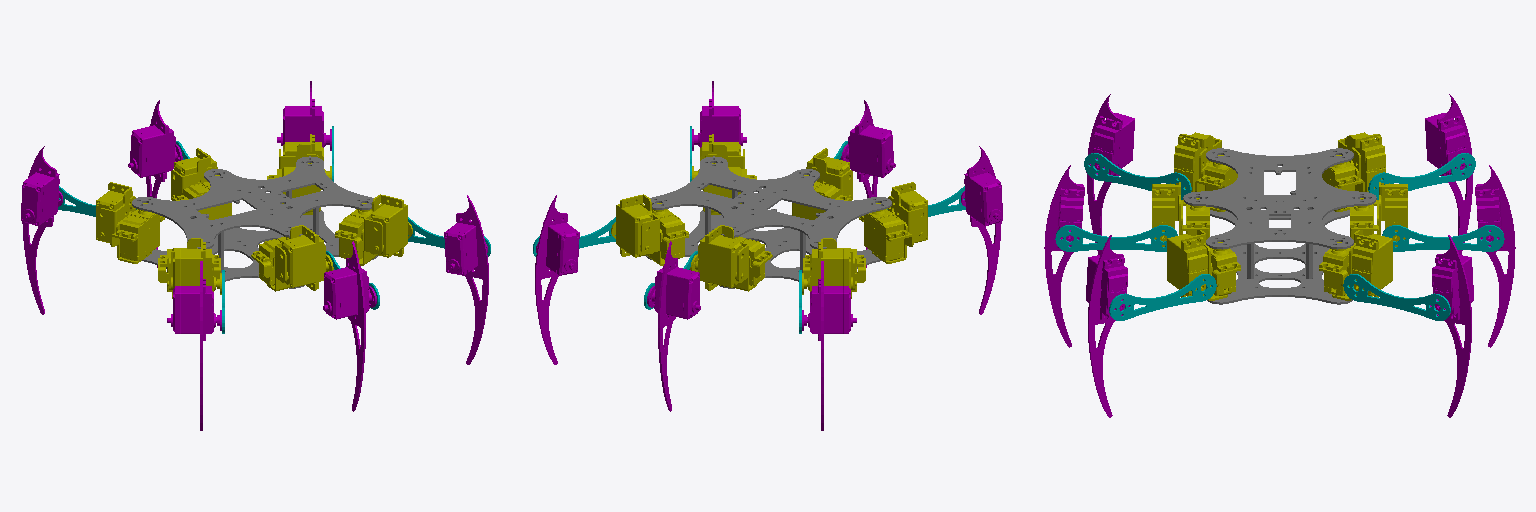
--- Facts derived from the render (not from the file) ---
The picture shows the robot from 3 angles, left to right: view 1: azimuth 30°, elevation 25°; view 2: azimuth 150°, elevation 25°; view 3: azimuth 270°, elevation 25°; orthographic projection.
Model crab with 31 links and 30 joints (18 revolute, 12 fixed), rooted at thorax, posed every joint at zero.
Visible links, largest first — view 1: thorax, coxa_r1, coxa_r2, coxa_l3, tibia_r1, tibia_r2, tibia_l3, tibia_l2, tibia_r3, coxa_r3, coxa_l2, tibia_l1 (+2 smaller); view 2: thorax, coxa_l1, coxa_l2, coxa_r3, tibia_l1, tibia_l2, tibia_r3, tibia_r2, tibia_l3, coxa_l3, coxa_r2, tibia_r1 (+2 smaller); view 3: thorax, tibia_r1, tibia_l1, coxa_r1, coxa_l1, tibia_r2, tibia_l2, tibia_r3, tibia_l3, coxa_r3, coxa_l3, coxa_r2 (+7 smaller).
Link boxes in pixels (x1,y1,x2,y2): thorax: (132, 156, 378, 288); coxa_r1: (335, 194, 412, 265); coxa_r2: (251, 225, 333, 291); coxa_l3: (96, 182, 164, 263); tibia_r1: (444, 195, 488, 364); tibia_r2: (323, 241, 376, 411); tibia_l3: (21, 146, 62, 314); tibia_l2: (128, 100, 182, 267); tibia_r3: (167, 261, 221, 430); coxa_r3: (158, 238, 221, 298); coxa_l2: (171, 148, 231, 219); tibia_l1: (277, 81, 331, 150); thorax: (645, 156, 891, 288); coxa_l1: (611, 194, 688, 265); coxa_l2: (690, 225, 772, 291); coxa_r3: (859, 182, 927, 263); tibia_l1: (535, 195, 579, 364); tibia_l2: (647, 241, 700, 411); tibia_r3: (961, 146, 1002, 314); tibia_r2: (841, 100, 895, 267); tibia_l3: (802, 261, 856, 430); coxa_l3: (802, 238, 865, 298); coxa_r2: (792, 148, 852, 219); tibia_r1: (692, 81, 746, 150); thorax: (1183, 148, 1376, 304); tibia_r1: (1086, 235, 1129, 417); tibia_l1: (1430, 235, 1473, 417); coxa_r1: (1167, 230, 1240, 300); coxa_l1: (1319, 230, 1392, 300); tibia_r2: (1044, 165, 1084, 347); tibia_l2: (1475, 165, 1515, 347); tibia_r3: (1086, 94, 1134, 254); tibia_l3: (1425, 94, 1473, 254); coxa_r3: (1170, 132, 1237, 211); coxa_l3: (1322, 132, 1389, 211); coxa_r2: (1152, 182, 1209, 246).
Bounding box of the posed robot: 0.3377 × 0.4021 × 0.172 m (x, y, z).
Meshes: 7 distinct files referenced, 19 mesh visuals loaded (7 binary STL).

The robot description file, URDF, robot "crab":
<?xml version="1.0" ?>
<!-- =================================================================================== -->
<!-- |    This document was autogenerated by xacro from crab_model.xacro               | -->
<!-- |    EDITING THIS FILE BY HAND IS NOT RECOMMENDED                                 | -->
<!-- =================================================================================== -->
<robot name="crab" xmlns:xacro="http://ros.org/wiki/xacro">
  <!-- Build the body frame -->
  <!--link name="base_link"/>
  <joint name="base_joint" type="fixed">
    <parent link="base_link"/>
    <child link="thorax"/>
    <origin rpy="0 0 0" xyz="0 0 0"/>
  </joint-->
  <!-- Note the density of the aluminium is about 2,710kg/m^3, and the densityf of the alloys of aluminium does not vary widely from this figure ranging between 2,640kg/m^3 and 2,810kg/m^3 (from www.thyssenkrupp-materials.co.uk/density-of-aluminium.html) -->
  <!-- One servo has a weight of approximately 0.055kg -->
  <link name="thorax">
    <inertial> <!-- these inertia are calculated based on the visual meshes using Meshlab, and using a density of 1kg/m^3 (http://gazebosim.org/tutorials?tut=inertia) -->
      <!--mass value="1"/--> <!-- volume = 0.061867e-3 -->
      <mass value="0.16765957"/> <!-- volume = 0.061867e-3m^3, density = 2,710kg/m^3 -->
      <origin xyz="0.000137 0.000006 0.002405"/>
      <!--inertia ixx="0.011935e-5" ixy="0.0" ixz="-0.000021e-5" iyy="0.022562e-5" iyz="-0.000001e-5" izz="0.026533e-5"/-->
      <!--inertia ixx="0.00192913831" ixy="0.0" ixz="-0.00000339437" iyy="0.00364685535" iyz="-1.6163706e-7" izz="0.00428871611"/--> <!-- divided by the volume, just need to be multiplied by the mass -->
      <inertia ixx="0.00032343849" ixy="0.0" ixz="-5.69098615e-7" iyy="0.00061143019" iyz="-2.71e-8" izz="0.00071904429"/> <!-- divided by the volume and multiplied by the mass -->
    </inertial>
    <visual>
      <origin rpy="0 0 0" xyz="0 0 0"/>
      <geometry>
        <mesh filename="meshes/thorax.STL"/>
      </geometry>
      <material name="grey">
        <color rgba="0.5 0.5 0.5 1"/>
      </material>
    </visual>
    <collision>
      <origin rpy="0 0 0" xyz="0 0 0"/>
      <geometry name="thorax_collision">
        <mesh filename="meshes/thorax.STL" scale="1. 1. 1."/>
      </geometry>
    </collision>
  </link>
  <!-- Pi parameter -->
  <!-- Joint properties -->
  <!-- Leg macros -->
  <!-- Build robot model -->
  <joint name="leg_center_joint_r1" type="fixed">
    <origin rpy="0 0 0" xyz="0.087598 -0.050575 0"/>
    <parent link="thorax"/>
    <child link="leg_center_r1"/>
  </joint>
  <link name="leg_center_r1">
    <inertial>
      <origin rpy="0 0 0" xyz="0 0 0"/>
      <mass value="0"/>
      <inertia ixx="0.0" ixy="0.0" ixz="0.0" iyy="0.0" iyz="0.0" izz="0.0"/>
    </inertial>
  </link> <!-- in pybullet, the inertia need to be specified even for dummy links, otherwise it will put an identity inertia and a mass of 1 by default -->
  <joint name="coxa_joint_r1" type="revolute">
    <origin rpy="0 0 -1.0471975512" xyz="0 0 0"/>
    <parent link="leg_center_r1"/>
    <child link="coxa_r1"/>
    <axis xyz="0 0 -1"/>
    <limit effort="10000" lower="-1.5" upper="1.5" velocity="100"/>
  </joint>
  <link name="coxa_r1">
    <inertial> <!-- these inertia are calculated based on the visual meshes using Meshlab, and using a density of 1kg/m^3 (http://gazebosim.org/tutorials?tut=inertia) -->
      <mass value="0.120"/> <!-- volume = 0.033302e-3, mass of 2 servos = 0,110kg + mass of a little bit of alloy = 0.010kg (approx) -->
      <origin xyz="0.014769 -0.007977 0.004815"/>
      <!--inertia ixx="0.001380e-5" ixy="-0.000093e-5" ixz="-0.000177e-5" iyy="0.001442e-5" iyz="-0.000030e-5" izz="0.001371e-5"/-->
      <!--inertia ixx="0.00041438952" ixy="-0.00002792625" ixz="-0.00005314996" iyy="0.00043300702" iyz="-0.00000900846" izz="0.00041168698"/--> <!-- divided by the volume, just need to be multiplied by the mass -->
      <inertia ixx="0.00004972674" ixy="-0.00000335115" ixz="-0.00000637799" iyy="0.00005196084" iyz="-0.00000108101" izz="0.00004940243"/> <!-- divided by the volume and multiplied by the mass -->
    </inertial>
    <visual>
      <origin rpy="0 0 0" xyz="0 0 0"/>
      <geometry>
        <mesh filename="meshes/coxa_r.STL"/>
      </geometry>
      <material name="">
        <color rgba="0.7 0.7 0 1"/>
      </material>
    </visual>
    <collision>
      <origin rpy="0 0 0" xyz="0 0 0"/>
      <geometry name="coxa_r1_collision">
        <mesh filename="meshes/coxa_r.STL" scale="1. 1. 1."/>
      </geometry>
    </collision>
  </link>
  <joint name="femur_joint_r1" type="revolute">
    <origin rpy="-1.57079632679 0 0" xyz="0.0294 0 0"/>
    <parent link="coxa_r1"/>
    <child link="femur_r1"/>
    <axis xyz="0 0 -1"/>
    <limit effort="10000" lower="-1.5" upper="1.5" velocity="100"/>
  </joint>
  <link name="femur_r1">
    <inertial> <!-- these inertia are calculated based on the visual meshes using Meshlab, and using a density of 1kg/m^3 (http://gazebosim.org/tutorials?tut=inertia) -->
      <mass value="0.00834951"/> <!-- volume = 0.003081e-3, density = 2,710kg/m^3 -->
      <origin xyz="0.0400002 0.0017746 0.0213350"/>
      <!--inertia ixx="0.000012e-5" ixy="0.0e-5" ixz="0.0e-5" iyy="0.000319e-5" iyz="0.0e-5" izz="0.000330e-5"/-->
      <!--inertia ixx="0.00003894839" ixy="0.0" ixz="0.0" iyy="0.00103537812" iyz="0.0" izz="0.00107108081"/--> <!-- divided by the volume, just need to be multiplied by the mass -->
      <inertia ixx="3.25199972e-7" ixy="0.0" ixz="0.0" iyy="0.00000864489" iyz="0.0" izz="0.00000894299"/> <!-- divided by the volume and multiplied by the mass -->
    </inertial>
    <visual>
      <origin rpy="0 0 0" xyz="0 0 0"/>
      <geometry>
        <mesh filename="meshes/femur_r.STL"/>
      </geometry>
      <material name="">
        <color rgba="0 0.7 0.7 1"/>
      </material>
    </visual>
    <collision>
      <origin rpy="0 0 0" xyz="0 0 0"/>
      <geometry name="femur_r1_collision">
        <mesh filename="meshes/femur_r.STL" scale="1. 1. 1."/>
      </geometry>
    </collision>
  </link>
  <joint name="tibia_joint_r1" type="revolute">
    <origin rpy="3.14159265359 0 1.57079632679" xyz="0.08 0 0"/>
    <parent link="femur_r1"/>
    <child link="tibia_r1"/>
    <axis xyz="0 0 1"/>
    <limit effort="10000" lower="-1.5" upper="1.5" velocity="100"/>
  </joint>
  <link name="tibia_r1">
    <inertial> <!-- these inertia are calculated based on the visual meshes using Meshlab, and using a density of 1kg/m^3 (http://gazebosim.org/tutorials?tut=inertia) -->
      <mass value="0.05564726"/> <!-- volume = 0.016106e-3, density = 2,710kg + 0.013kg for the servo (a little bit random) -->
      <origin xyz="-0.0025176 0.0017559 0.0028322"/>
      <!--inertia ixx="0.000317e-5" ixy="-0.000054e-5" ixz="0.000061e-5" iyy="0.001368e-5" iyz="0.000011e-5" izz="0.001244e-5"/-->
      <!--inertia ixx="0.00019682106" ixy="-0.00003352787" ixz="0.00003787408" iyy="0.0008493729" iyz="0.00000682975" izz="0.00077238296"/--> <!-- divided by the volume, just need to be multiplied by the mass -->
      <inertia ixx="0.00001095255" ixy="-0.00000186573" ixz="0.00000210758" iyy="0.00004726527" iyz="3.80056874e-7" izz="0.00004298099"/> <!-- divided by the volume, just need to be multiplied by the mass -->
    </inertial>
    <visual>
      <origin rpy="0 0 0.06" xyz="0 0 0"/>
      <geometry>
        <mesh filename="meshes/tibia_r.STL"/>
      </geometry>
      <material name="">
        <color rgba="0.7 0 0.7 1"/>
      </material>
    </visual>
    <collision>
      <origin rpy="0 0 0.06" xyz="0 0 0"/>
      <geometry name="tibia_r1_collision">
        <mesh filename="meshes/tibia_r.STL" scale="1. 1. 1."/>
      </geometry>
    </collision>
  </link>
  <joint name="tibia_foot_joint_r1" type="fixed">
    <origin rpy="0 0 0" xyz="0.117 0 0"/>
    <parent link="tibia_r1"/>
    <child link="tibia_foot_r1"/>
  </joint>
  <link name="tibia_foot_r1">
    <inertial>
      <origin rpy="0 0 0" xyz="0 0 0"/>
      <mass value="0"/>
      <inertia ixx="0.0" ixy="0.0" ixz="0.0" iyy="0.0" iyz="0.0" izz="0.0"/>
    </inertial>
  </link> <!-- in pybullet, the inertia need to be specified even for dummy links, otherwise it will put an identity inertia and a mass of 1 by default -->
  <joint name="leg_center_joint_r2" type="fixed">
    <origin rpy="0 0 0" xyz="0 -0.06985 0"/>
    <parent link="thorax"/>
    <child link="leg_center_r2"/>
  </joint>
  <link name="leg_center_r2">
    <inertial>
      <origin rpy="0 0 0" xyz="0 0 0"/>
      <mass value="0"/>
      <inertia ixx="0.0" ixy="0.0" ixz="0.0" iyy="0.0" iyz="0.0" izz="0.0"/>
    </inertial>
  </link> <!-- in pybullet, the inertia need to be specified even for dummy links, otherwise it will put an identity inertia and a mass of 1 by default -->
  <joint name="coxa_joint_r2" type="revolute">
    <origin rpy="0 0 -1.57079632679" xyz="0 0 0"/>
    <parent link="leg_center_r2"/>
    <child link="coxa_r2"/>
    <axis xyz="0 0 -1"/>
    <limit effort="10000" lower="-1.5" upper="1.5" velocity="100"/>
  </joint>
  <link name="coxa_r2">
    <inertial> <!-- these inertia are calculated based on the visual meshes using Meshlab, and using a density of 2,710kg/m^3 (http://gazebosim.org/tutorials?tut=inertia) -->
      <mass value="0.120"/> <!-- volume = 0.033302e-3, mass of 2 servos = 0,110kg + mass of a little bit of alloy = 0.010kg (approx) -->
      <origin xyz="0.014769 -0.007977 0.004815"/>
      <!--inertia ixx="0.001380e-5" ixy="-0.000093e-5" ixz="-0.000177e-5" iyy="0.001442e-5" iyz="-0.000030e-5" izz="0.001371e-5"/-->
      <!--inertia ixx="0.00041438952" ixy="-0.00002792625" ixz="-0.00005314996" iyy="0.00043300702" iyz="-0.00000900846" izz="0.00041168698"/--> <!-- divided by the volume, just need to be multiplied by the mass -->
      <inertia ixx="0.00004972674" ixy="-0.00000335115" ixz="-0.00000637799" iyy="0.00005196084" iyz="-0.00000108101" izz="0.00004940243"/> <!-- divided by the volume and multiplied by the mass -->
    </inertial>
    <visual>
      <origin rpy="0 0 0" xyz="0 0 0"/>
      <geometry>
        <mesh filename="meshes/coxa_r.STL"/>
      </geometry>
      <material name="">
        <color rgba="0.7 0.7 0 1"/>
      </material>
    </visual>
    <collision>
      <origin rpy="0 0 0" xyz="0 0 0"/>
      <geometry name="coxa_r2_collision">
        <mesh filename="meshes/coxa_r.STL" scale="1. 1. 1."/>
      </geometry>
    </collision>
  </link>
  <joint name="femur_joint_r2" type="revolute">
    <origin rpy="-1.57079632679 0 0" xyz="0.0294 0 0"/>
    <parent link="coxa_r2"/>
    <child link="femur_r2"/>
    <axis xyz="0 0 -1"/>
    <limit effort="10000" lower="-1.5" upper="1.5" velocity="100"/>
  </joint>
  <link name="femur_r2">
    <inertial> <!-- these inertia are calculated based on the visual meshes using Meshlab, and using a density of 1kg/m^3 (http://gazebosim.org/tutorials?tut=inertia) -->
      <mass value="0.00834951"/> <!-- volume = 0.003081e-3, density = 2,710kg/m^3 -->
      <origin xyz="0.0400002 0.0017746 0.0213350"/>
      <!--inertia ixx="0.000012e-5" ixy="0.0e-5" ixz="0.0e-5" iyy="0.000319e-5" iyz="0.0e-5" izz="0.000330e-5"/-->
      <!--inertia ixx="0.00003894839" ixy="0.0" ixz="0.0" iyy="0.00103537812" iyz="0.0" izz="0.00107108081"/--> <!-- divided by the volume, just need to be multiplied by the mass -->
      <inertia ixx="3.25199972e-7" ixy="0.0" ixz="0.0" iyy="0.00000864489" iyz="0.0" izz="0.00000894299"/> <!-- divided by the volume and multiplied by the mass -->
    </inertial>
    <visual>
      <origin rpy="0 0 0" xyz="0 0 0"/>
      <geometry>
        <mesh filename="meshes/femur_r.STL"/>
      </geometry>
      <material name="">
        <color rgba="0 0.7 0.7 1"/>
      </material>
    </visual>
    <collision>
      <origin rpy="0 0 0" xyz="0 0 0"/>
      <geometry name="femur_r2_collision">
        <mesh filename="meshes/femur_r.STL" scale="1. 1. 1."/>
      </geometry>
    </collision>
  </link>
  <joint name="tibia_joint_r2" type="revolute">
    <origin rpy="3.14159265359 0 1.57079632679" xyz="0.08 0 0"/>
    <parent link="femur_r2"/>
    <child link="tibia_r2"/>
    <axis xyz="0 0 1"/>
    <limit effort="10000" lower="-1.5" upper="1.5" velocity="100"/>
  </joint>
  <link name="tibia_r2">
    <inertial> <!-- these inertia are calculated based on the visual meshes using Meshlab, and using a density of 1kg/m^3 (http://gazebosim.org/tutorials?tut=inertia) -->
      <mass value="0.05564726"/> <!-- volume = 0.016106e-3, density = 2,710kg + 0.013kg for the servo (a little bit random) -->
      <origin xyz="-0.0025176 0.0017559 0.0028322"/>
      <!--inertia ixx="0.000317e-5" ixy="-0.000054e-5" ixz="0.000061e-5" iyy="0.001368e-5" iyz="0.000011e-5" izz="0.001244e-5"/-->
      <!--inertia ixx="0.00019682106" ixy="-0.00003352787" ixz="0.00003787408" iyy="0.0008493729" iyz="0.00000682975" izz="0.00077238296"/--> <!-- divided by the volume, just need to be multiplied by the mass -->
      <inertia ixx="0.00001095255" ixy="-0.00000186573" ixz="0.00000210758" iyy="0.00004726527" iyz="3.80056874e-7" izz="0.00004298099"/> <!-- divided by the volume, just need to be multiplied by the mass -->
    </inertial>
    <visual>
      <origin rpy="0 0 0.06" xyz="0 0 0"/>
      <geometry>
        <mesh filename="meshes/tibia_r.STL"/>
      </geometry>
      <material name="">
        <color rgba="0.7 0 0.7 1"/>
      </material>
    </visual>
    <collision>
      <origin rpy="0 0 0.06" xyz="0 0 0"/>
      <geometry name="tibia_r2_collision">
        <mesh filename="meshes/tibia_r.STL" scale="1. 1. 1."/>
      </geometry>
    </collision>
  </link>
  <joint name="tibia_foot_joint_r2" type="fixed">
    <origin rpy="0 0 0" xyz="0.117 0 0"/>
    <parent link="tibia_r2"/>
    <child link="tibia_foot_r2"/>
  </joint>
  <link name="tibia_foot_r2">
    <inertial>
      <origin rpy="0 0 0" xyz="0 0 0"/>
      <mass value="0"/>
      <inertia ixx="0.0" ixy="0.0" ixz="0.0" iyy="0.0" iyz="0.0" izz="0.0"/>
    </inertial>
  </link> <!-- in pybullet, the inertia need to be specified even for dummy links, otherwise it will put an identity inertia and a mass of 1 by default -->
  <joint name="leg_center_joint_r3" type="fixed">
    <origin rpy="0 0 0" xyz="-0.087598 -0.050575 0"/>
    <parent link="thorax"/>
    <child link="leg_center_r3"/>
  </joint>
  <link name="leg_center_r3">
    <inertial>
      <origin rpy="0 0 0" xyz="0 0 0"/>
      <mass value="0"/>
      <inertia ixx="0.0" ixy="0.0" ixz="0.0" iyy="0.0" iyz="0.0" izz="0.0"/>
    </inertial>
  </link> <!-- in pybullet, the inertia need to be specified even for dummy links, otherwise it will put an identity inertia and a mass of 1 by default -->
  <joint name="coxa_joint_r3" type="revolute">
    <origin rpy="0 0 -2.09439510239" xyz="0 0 0"/>
    <parent link="leg_center_r3"/>
    <child link="coxa_r3"/>
    <axis xyz="0 0 -1"/>
    <limit effort="10000" lower="-1.5" upper="1.5" velocity="100"/>
  </joint>
  <link name="coxa_r3">
    <inertial> <!-- these inertia are calculated based on the visual meshes using Meshlab, and using a density of 2,710kg/m^3 (http://gazebosim.org/tutorials?tut=inertia) -->
      <mass value="0.120"/> <!-- volume = 0.033302e-3, mass of 2 servos = 0,110kg + mass of a little bit of alloy = 0.010kg (approx) -->
      <origin xyz="0.014769 -0.007977 0.004815"/>
      <!--inertia ixx="0.001380e-5" ixy="-0.000093e-5" ixz="-0.000177e-5" iyy="0.001442e-5" iyz="-0.000030e-5" izz="0.001371e-5"/-->
      <!--inertia ixx="0.00041438952" ixy="-0.00002792625" ixz="-0.00005314996" iyy="0.00043300702" iyz="-0.00000900846" izz="0.00041168698"/--> <!-- divided by the volume, just need to be multiplied by the mass -->
      <inertia ixx="0.00004972674" ixy="-0.00000335115" ixz="-0.00000637799" iyy="0.00005196084" iyz="-0.00000108101" izz="0.00004940243"/> <!-- divided by the volume and multiplied by the mass -->
    </inertial>
    <visual>
      <origin rpy="0 0 0" xyz="0 0 0"/>
      <geometry>
        <mesh filename="meshes/coxa_r.STL"/>
      </geometry>
      <material name="">
        <color rgba="0.7 0.7 0 1"/>
      </material>
    </visual>
    <collision>
      <origin rpy="0 0 0" xyz="0 0 0"/>
      <geometry name="coxa_r3_collision">
        <mesh filename="meshes/coxa_r.STL" scale="1. 1. 1."/>
      </geometry>
    </collision>
  </link>
  <joint name="femur_joint_r3" type="revolute">
    <origin rpy="-1.57079632679 0 0" xyz="0.0294 0 0"/>
    <parent link="coxa_r3"/>
    <child link="femur_r3"/>
    <axis xyz="0 0 -1"/>
    <limit effort="10000" lower="-1.5" upper="1.5" velocity="100"/>
  </joint>
  <link name="femur_r3">
    <inertial> <!-- these inertia are calculated based on the visual meshes using Meshlab, and using a density of 1kg/m^3 (http://gazebosim.org/tutorials?tut=inertia) -->
      <mass value="0.00834951"/> <!-- volume = 0.003081e-3, density = 2,710kg/m^3 -->
      <origin xyz="0.0400002 0.0017746 0.0213350"/>
      <!--inertia ixx="0.000012e-5" ixy="0.0e-5" ixz="0.0e-5" iyy="0.000319e-5" iyz="0.0e-5" izz="0.000330e-5"/-->
      <!--inertia ixx="0.00003894839" ixy="0.0" ixz="0.0" iyy="0.00103537812" iyz="0.0" izz="0.00107108081"/--> <!-- divided by the volume, just need to be multiplied by the mass -->
      <inertia ixx="3.25199972e-7" ixy="0.0" ixz="0.0" iyy="0.00000864489" iyz="0.0" izz="0.00000894299"/> <!-- divided by the volume and multiplied by the mass -->
    </inertial>
    <visual>
      <origin rpy="0 0 0" xyz="0 0 0"/>
      <geometry>
        <mesh filename="meshes/femur_r.STL"/>
      </geometry>
      <material name="">
        <color rgba="0 0.7 0.7 1"/>
      </material>
    </visual>
    <collision>
      <origin rpy="0 0 0" xyz="0 0 0"/>
      <geometry name="femur_r3_collision">
        <mesh filename="meshes/femur_r.STL" scale="1. 1. 1."/>
      </geometry>
    </collision>
  </link>
  <joint name="tibia_joint_r3" type="revolute">
    <origin rpy="3.14159265359 0 1.57079632679" xyz="0.08 0 0"/>
    <parent link="femur_r3"/>
    <child link="tibia_r3"/>
    <axis xyz="0 0 1"/>
    <limit effort="10000" lower="-1.5" upper="1.5" velocity="100"/>
  </joint>
  <link name="tibia_r3">
    <inertial> <!-- these inertia are calculated based on the visual meshes using Meshlab, and using a density of 1kg/m^3 (http://gazebosim.org/tutorials?tut=inertia) -->
      <mass value="0.05564726"/> <!-- volume = 0.016106e-3, density = 2,710kg + 0.013kg for the servo (a little bit random) -->
      <origin xyz="-0.0025176 0.0017559 0.0028322"/>
      <!--inertia ixx="0.000317e-5" ixy="-0.000054e-5" ixz="0.000061e-5" iyy="0.001368e-5" iyz="0.000011e-5" izz="0.001244e-5"/-->
      <!--inertia ixx="0.00019682106" ixy="-0.00003352787" ixz="0.00003787408" iyy="0.0008493729" iyz="0.00000682975" izz="0.00077238296"/--> <!-- divided by the volume, just need to be multiplied by the mass -->
      <inertia ixx="0.00001095255" ixy="-0.00000186573" ixz="0.00000210758" iyy="0.00004726527" iyz="3.80056874e-7" izz="0.00004298099"/> <!-- divided by the volume, just need to be multiplied by the mass -->
    </inertial>
    <visual>
      <origin rpy="0 0 0.06" xyz="0 0 0"/>
      <geometry>
        <mesh filename="meshes/tibia_r.STL"/>
      </geometry>
      <material name="">
        <color rgba="0.7 0 0.7 1"/>
      </material>
    </visual>
    <collision>
      <origin rpy="0 0 0.06" xyz="0 0 0"/>
      <geometry name="tibia_r3_collision">
        <mesh filename="meshes/tibia_r.STL" scale="1. 1. 1."/>
      </geometry>
    </collision>
  </link>
  <joint name="tibia_foot_joint_r3" type="fixed">
    <origin rpy="0 0 0" xyz="0.117 0 0"/>
    <parent link="tibia_r3"/>
    <child link="tibia_foot_r3"/>
  </joint>
  <link name="tibia_foot_r3">
    <inertial>
      <origin rpy="0 0 0" xyz="0 0 0"/>
      <mass value="0"/>
      <inertia ixx="0.0" ixy="0.0" ixz="0.0" iyy="0.0" iyz="0.0" izz="0.0"/>
    </inertial>
  </link> <!-- in pybullet, the inertia need to be specified even for dummy links, otherwise it will put an identity inertia and a mass of 1 by default -->
  <joint name="leg_center_joint_l1" type="fixed">
    <origin rpy="0 0 0" xyz="0.087598 0.050575 0"/>
    <parent link="thorax"/>
    <child link="leg_center_l1"/>
  </joint>
  <link name="leg_center_l1">
    <inertial>
      <origin rpy="0 0 0" xyz="0 0 0"/>
      <mass value="0"/>
      <inertia ixx="0.0" ixy="0.0" ixz="0.0" iyy="0.0" iyz="0.0" izz="0.0"/>
    </inertial>
  </link> <!-- in pybullet, the inertia need to be specified even for dummy links, otherwise it will put an identity inertia and a mass of 1 by default -->
  <joint name="coxa_joint_l1" type="revolute">
    <origin rpy="0 0 1.0471975512" xyz="0 0 0"/>
    <parent link="leg_center_l1"/>
    <child link="coxa_l1"/>
    <axis xyz="0 0 -1"/>
    <limit effort="10000" lower="-1.5" upper="1.5" velocity="100"/>
  </joint>
  <link name="coxa_l1">
    <inertial> <!-- these inertia are calculated based on the visual meshes using Meshlab, and using a density of 1kg/m^3 (http://gazebosim.org/tutorials?tut=inertia) -->
      <mass value="0.120"/> <!-- volume = 0.033302e-3, mass of 2 servos = 0,110kg + mass of a little bit of alloy = 0.010kg (approx) -->
      <origin xyz="0.014769 0.007977 0.004815"/>
      <!--inertia ixx="0.001380e-5" ixy="0.000093e-5" ixz="-0.000177e-5" iyy="0.001442e-5" iyz="0.000030e-5" izz="0.001371e-5"/-->
      <!--inertia ixx="0.00041438952" ixy="0.00002792625" ixz="-0.00005314996" iyy="0.00043300702" iyz="0.00000900846" izz="0.00041168698"/--> <!-- divided by the volume, just need to be multiplied by the mass -->
      <inertia ixx="0.00004972674" ixy="0.00000335115" ixz="-0.00000637799" iyy="0.00005196084" iyz="0.00000108101" izz="0.00004940243"/> <!-- divided by the volume and multiplied by the mass -->
    </inertial>
    <visual>
      <origin rpy="0 0 0" xyz="0 0 0"/>
      <geometry>
        <mesh filename="meshes/coxa_l.STL"/>
      </geometry>
      <material name="">
        <color rgba="0.7 0.7 0 1"/>
      </material>
    </visual>
    <collision>
      <origin rpy="0 0 0" xyz="0 0 0"/>
      <geometry name="coxa_l1_collision">
        <mesh filename="meshes/coxa_l.STL" scale="1. 1. 1."/>
      </geometry>
    </collision>
  </link>
  <joint name="femur_joint_l1" type="revolute">
    <origin rpy="-1.57079632679 0 0" xyz="0.0294 0 0"/>
    <parent link="coxa_l1"/>
    <child link="femur_l1"/>
    <axis xyz="0 0 -1"/>
    <limit effort="10000" lower="-1.5" upper="1.5" velocity="100"/>
  </joint>
  <link name="femur_l1">
    <inertial> <!-- these inertia are calculated based on the visual meshes using Meshlab, and using a density of 1kg/m^3 (http://gazebosim.org/tutorials?tut=inertia) -->
      <mass value="0.00834951"/> <!-- volume = 0.003081e-3, density = 2,710kg/m^3 -->
      <origin xyz="0.0400002 0.0017746 -0.0213350"/>
      <!--inertia ixx="0.000012e-5" ixy="0.0e-5" ixz="0.0e-5" iyy="0.000319e-5" iyz="0.0e-5" izz="0.000330e-5"/-->
      <!--inertia ixx="0.00003894839" ixy="0.0" ixz="0.0" iyy="0.00103537812" iyz="0.0" izz="0.00107108081"/--> <!-- divided by the volume, just need to be multiplied by the mass -->
      <inertia ixx="3.25199972e-7" ixy="0.0" ixz="0.0" iyy="0.00000864489" iyz="0.0" izz="0.00000894299"/> <!-- divided by the volume and multiplied by the mass -->
    </inertial>
    <visual>
      <origin rpy="0 0 0" xyz="0 0 0"/>
      <geometry>
        <mesh filename="meshes/femur_l.STL"/>
      </geometry>
      <material name="">
        <color rgba="0 0.7 0.7 1"/>
      </material>
    </visual>
    <collision>
      <origin rpy="0 0 0" xyz="0 0 0"/>
      <geometry name="femur_l1_collision">
        <mesh filename="meshes/femur_l.STL" scale="1. 1. 1."/>
      </geometry>
    </collision>
  </link>
  <joint name="tibia_joint_l1" type="revolute">
    <origin rpy="3.14159265359 0 1.57079632679" xyz="0.08 0 0"/>
    <parent link="femur_l1"/>
    <child link="tibia_l1"/>
    <axis xyz="0 0 1"/>
    <limit effort="10000" lower="-1.5" upper="1.5" velocity="100"/>
  </joint>
  <link name="tibia_l1">
    <inertial> <!-- these inertia are calculated based on the visual meshes using Meshlab, and using a density of 1kg/m^3 (http://gazebosim.org/tutorials?tut=inertia) -->
      <mass value="0.05564726"/> <!-- volume = 0.016106e-3, density = 2,710kg + 0.013kg for the servo (a little bit random) -->
      <origin xyz="-0.0025176 0.0017559 -0.0028322"/>
      <!--inertia ixx="0.000317e-5" ixy="-0.000054e-5" ixz="-0.000061e-5" iyy="0.001368e-5" iyz="-0.000011e-5" izz="0.001244e-5"/-->
      <!--inertia ixx="0.00019682106" ixy="-0.00003352787" ixz="-0.00003787408" iyy="0.0008493729" iyz="-0.00000682975" izz="0.00077238296"/--> <!-- divided by the volume, just need to be multiplied by the mass -->
      <inertia ixx="0.00001095255" ixy="-0.00000186573" ixz="-0.00000210758" iyy="0.00004726527" iyz="-3.80056874e-7" izz="0.00004298099"/> <!-- divided by the volume, just need to be multiplied by the mass -->
    </inertial>
    <visual>
      <origin rpy="0 0 0.06" xyz="0 0 0"/>
      <geometry>
        <mesh filename="meshes/tibia_l.STL"/>
      </geometry>
      <material name="">
        <color rgba="0.7 0 0.7 1"/>
      </material>
    </visual>
    <collision>
      <origin rpy="0 0 0.06" xyz="0 0 0"/>
      <geometry name="tibia_l1_collision">
        <mesh filename="meshes/tibia_l.STL" scale="1. 1. 1."/>
      </geometry>
    </collision>
  </link>
  <joint name="tibia_foot_joint_l1" type="fixed">
    <origin rpy="0 0 0" xyz="0.117 0 0"/>
    <parent link="tibia_l1"/>
    <child link="tibia_foot_l1"/>
  </joint>
  <link name="tibia_foot_l1">
    <inertial>
      <origin rpy="0 0 0" xyz="0 0 0"/>
      <mass value="0"/>
      <inertia ixx="0.0" ixy="0.0" ixz="0.0" iyy="0.0" iyz="0.0" izz="0.0"/>
    </inertial>
  </link> <!-- in pybullet, the inertia need to be specified even for dummy links, otherwise it will put an identity inertia and a mass of 1 by default -->
  <joint name="leg_center_joint_l2" type="fixed">
    <origin rpy="0 0 0" xyz="0 0.06985 0"/>
    <parent link="thorax"/>
    <child link="leg_center_l2"/>
  </joint>
  <link name="leg_center_l2">
    <inertial>
      <origin rpy="0 0 0" xyz="0 0 0"/>
      <mass value="0"/>
      <inertia ixx="0.0" ixy="0.0" ixz="0.0" iyy="0.0" iyz="0.0" izz="0.0"/>
    </inertial>
  </link> <!-- in pybullet, the inertia need to be specified even for dummy links, otherwise it will put an identity inertia and a mass of 1 by default -->
  <joint name="coxa_joint_l2" type="revolute">
    <origin rpy="0 0 1.57079632679" xyz="0 0 0"/>
    <parent link="leg_center_l2"/>
    <child link="coxa_l2"/>
    <axis xyz="0 0 -1"/>
    <limit effort="10000" lower="-1.5" upper="1.5" velocity="100"/>
  </joint>
  <link name="coxa_l2">
    <inertial> <!-- these inertia are calculated based on the visual meshes using Meshlab, and using a density of 1kg/m^3 (http://gazebosim.org/tutorials?tut=inertia) -->
      <mass value="0.120"/> <!-- volume = 0.033302e-3, mass of 2 servos = 0,110kg + mass of a little bit of alloy = 0.010kg (approx) -->
      <origin xyz="0.014769 0.007977 0.004815"/>
      <!--inertia ixx="0.001380e-5" ixy="0.000093e-5" ixz="-0.000177e-5" iyy="0.001442e-5" iyz="0.000030e-5" izz="0.001371e-5"/-->
      <!--inertia ixx="0.00041438952" ixy="0.00002792625" ixz="-0.00005314996" iyy="0.00043300702" iyz="0.00000900846" izz="0.00041168698"/--> <!-- divided by the volume, just need to be multiplied by the mass -->
      <inertia ixx="0.00004972674" ixy="0.00000335115" ixz="-0.00000637799" iyy="0.00005196084" iyz="0.00000108101" izz="0.00004940243"/> <!-- divided by the volume and multiplied by the mass -->
    </inertial>
    <visual>
      <origin rpy="0 0 0" xyz="0 0 0"/>
      <geometry>
        <mesh filename="meshes/coxa_l.STL"/>
      </geometry>
      <material name="">
        <color rgba="0.7 0.7 0 1"/>
      </material>
    </visual>
    <collision>
      <origin rpy="0 0 0" xyz="0 0 0"/>
      <geometry name="coxa_l2_collision">
        <mesh filename="meshes/coxa_l.STL" scale="1. 1. 1."/>
      </geometry>
    </collision>
  </link>
  <joint name="femur_joint_l2" type="revolute">
    <origin rpy="-1.57079632679 0 0" xyz="0.0294 0 0"/>
    <parent link="coxa_l2"/>
    <child link="femur_l2"/>
    <axis xyz="0 0 -1"/>
    <limit effort="10000" lower="-1.5" upper="1.5" velocity="100"/>
  </joint>
  <link name="femur_l2">
    <inertial> <!-- these inertia are calculated based on the visual meshes using Meshlab, and using a density of 1kg/m^3 (http://gazebosim.org/tutorials?tut=inertia) -->
      <mass value="0.00834951"/> <!-- volume = 0.003081e-3, density = 2,710kg/m^3 -->
      <origin xyz="0.0400002 0.0017746 -0.0213350"/>
      <!--inertia ixx="0.000012e-5" ixy="0.0e-5" ixz="0.0e-5" iyy="0.000319e-5" iyz="0.0e-5" izz="0.000330e-5"/-->
      <!--inertia ixx="0.00003894839" ixy="0.0" ixz="0.0" iyy="0.00103537812" iyz="0.0" izz="0.00107108081"/--> <!-- divided by the volume, just need to be multiplied by the mass -->
      <inertia ixx="3.25199972e-7" ixy="0.0" ixz="0.0" iyy="0.00000864489" iyz="0.0" izz="0.00000894299"/> <!-- divided by the volume and multiplied by the mass -->
    </inertial>
    <visual>
      <origin rpy="0 0 0" xyz="0 0 0"/>
      <geometry>
        <mesh filename="meshes/femur_l.STL"/>
      </geometry>
      <material name="">
        <color rgba="0 0.7 0.7 1"/>
      </material>
    </visual>
    <collision>
      <origin rpy="0 0 0" xyz="0 0 0"/>
      <geometry name="femur_l2_collision">
        <mesh filename="meshes/femur_l.STL" scale="1. 1. 1."/>
      </geometry>
    </collision>
  </link>
  <joint name="tibia_joint_l2" type="revolute">
    <origin rpy="3.14159265359 0 1.57079632679" xyz="0.08 0 0"/>
    <parent link="femur_l2"/>
    <child link="tibia_l2"/>
    <axis xyz="0 0 1"/>
    <limit effort="10000" lower="-1.5" upper="1.5" velocity="100"/>
  </joint>
  <link name="tibia_l2">
    <inertial> <!-- these inertia are calculated based on the visual meshes using Meshlab, and using a density of 1kg/m^3 (http://gazebosim.org/tutorials?tut=inertia) -->
      <mass value="0.05564726"/> <!-- volume = 0.016106e-3, density = 2,710kg + 0.013kg for the servo (a little bit random) -->
      <origin xyz="-0.0025176 0.0017559 -0.0028322"/>
      <!--inertia ixx="0.000317e-5" ixy="-0.000054e-5" ixz="-0.000061e-5" iyy="0.001368e-5" iyz="-0.000011e-5" izz="0.001244e-5"/-->
      <!--inertia ixx="0.00019682106" ixy="-0.00003352787" ixz="-0.00003787408" iyy="0.0008493729" iyz="-0.00000682975" izz="0.00077238296"/--> <!-- divided by the volume, just need to be multiplied by the mass -->
      <inertia ixx="0.00001095255" ixy="-0.00000186573" ixz="-0.00000210758" iyy="0.00004726527" iyz="-3.80056874e-7" izz="0.00004298099"/> <!-- divided by the volume, just need to be multiplied by the mass -->
    </inertial>
    <visual>
      <origin rpy="0 0 0.06" xyz="0 0 0"/>
      <geometry>
        <mesh filename="meshes/tibia_l.STL"/>
      </geometry>
      <material name="">
        <color rgba="0.7 0 0.7 1"/>
      </material>
    </visual>
    <collision>
      <origin rpy="0 0 0.06" xyz="0 0 0"/>
      <geometry name="tibia_l2_collision">
        <mesh filename="meshes/tibia_l.STL" scale="1. 1. 1."/>
      </geometry>
    </collision>
  </link>
  <joint name="tibia_foot_joint_l2" type="fixed">
    <origin rpy="0 0 0" xyz="0.117 0 0"/>
    <parent link="tibia_l2"/>
    <child link="tibia_foot_l2"/>
  </joint>
  <link name="tibia_foot_l2">
    <inertial>
      <origin rpy="0 0 0" xyz="0 0 0"/>
      <mass value="0"/>
      <inertia ixx="0.0" ixy="0.0" ixz="0.0" iyy="0.0" iyz="0.0" izz="0.0"/>
    </inertial>
  </link> <!-- in pybullet, the inertia need to be specified even for dummy links, otherwise it will put an identity inertia and a mass of 1 by default -->
  <joint name="leg_center_joint_l3" type="fixed">
    <origin rpy="0 0 0" xyz="-0.087598 0.050575 0"/>
    <parent link="thorax"/>
    <child link="leg_center_l3"/>
  </joint>
  <link name="leg_center_l3">
    <inertial>
      <origin rpy="0 0 0" xyz="0 0 0"/>
      <mass value="0"/>
      <inertia ixx="0.0" ixy="0.0" ixz="0.0" iyy="0.0" iyz="0.0" izz="0.0"/>
    </inertial>
  </link> <!-- in pybullet, the inertia need to be specified even for dummy links, otherwise it will put an identity inertia and a mass of 1 by default -->
  <joint name="coxa_joint_l3" type="revolute">
    <origin rpy="0 0 2.09439510239" xyz="0 0 0"/>
    <parent link="leg_center_l3"/>
    <child link="coxa_l3"/>
    <axis xyz="0 0 -1"/>
    <limit effort="10000" lower="-1.5" upper="1.5" velocity="100"/>
  </joint>
  <link name="coxa_l3">
    <inertial> <!-- these inertia are calculated based on the visual meshes using Meshlab, and using a density of 1kg/m^3 (http://gazebosim.org/tutorials?tut=inertia) -->
      <mass value="0.120"/> <!-- volume = 0.033302e-3, mass of 2 servos = 0,110kg + mass of a little bit of alloy = 0.010kg (approx) -->
      <origin xyz="0.014769 0.007977 0.004815"/>
      <!--inertia ixx="0.001380e-5" ixy="0.000093e-5" ixz="-0.000177e-5" iyy="0.001442e-5" iyz="0.000030e-5" izz="0.001371e-5"/-->
      <!--inertia ixx="0.00041438952" ixy="0.00002792625" ixz="-0.00005314996" iyy="0.00043300702" iyz="0.00000900846" izz="0.00041168698"/--> <!-- divided by the volume, just need to be multiplied by the mass -->
      <inertia ixx="0.00004972674" ixy="0.00000335115" ixz="-0.00000637799" iyy="0.00005196084" iyz="0.00000108101" izz="0.00004940243"/> <!-- divided by the volume and multiplied by the mass -->
    </inertial>
    <visual>
      <origin rpy="0 0 0" xyz="0 0 0"/>
      <geometry>
        <mesh filename="meshes/coxa_l.STL"/>
      </geometry>
      <material name="">
        <color rgba="0.7 0.7 0 1"/>
      </material>
    </visual>
    <collision>
      <origin rpy="0 0 0" xyz="0 0 0"/>
      <geometry name="coxa_l3_collision">
        <mesh filename="meshes/coxa_l.STL" scale="1. 1. 1."/>
      </geometry>
    </collision>
  </link>
  <joint name="femur_joint_l3" type="revolute">
    <origin rpy="-1.57079632679 0 0" xyz="0.0294 0 0"/>
    <parent link="coxa_l3"/>
    <child link="femur_l3"/>
    <axis xyz="0 0 -1"/>
    <limit effort="10000" lower="-1.5" upper="1.5" velocity="100"/>
  </joint>
  <link name="femur_l3">
    <inertial> <!-- these inertia are calculated based on the visual meshes using Meshlab, and using a density of 1kg/m^3 (http://gazebosim.org/tutorials?tut=inertia) -->
      <mass value="0.00834951"/> <!-- volume = 0.003081e-3, density = 2,710kg/m^3 -->
      <origin xyz="0.0400002 0.0017746 -0.0213350"/>
      <!--inertia ixx="0.000012e-5" ixy="0.0e-5" ixz="0.0e-5" iyy="0.000319e-5" iyz="0.0e-5" izz="0.000330e-5"/-->
      <!--inertia ixx="0.00003894839" ixy="0.0" ixz="0.0" iyy="0.00103537812" iyz="0.0" izz="0.00107108081"/--> <!-- divided by the volume, just need to be multiplied by the mass -->
      <inertia ixx="3.25199972e-7" ixy="0.0" ixz="0.0" iyy="0.00000864489" iyz="0.0" izz="0.00000894299"/> <!-- divided by the volume and multiplied by the mass -->
    </inertial>
    <visual>
      <origin rpy="0 0 0" xyz="0 0 0"/>
      <geometry>
        <mesh filename="meshes/femur_l.STL"/>
      </geometry>
      <material name="">
        <color rgba="0 0.7 0.7 1"/>
      </material>
    </visual>
    <collision>
      <origin rpy="0 0 0" xyz="0 0 0"/>
      <geometry name="femur_l3_collision">
        <mesh filename="meshes/femur_l.STL" scale="1. 1. 1."/>
      </geometry>
    </collision>
  </link>
  <joint name="tibia_joint_l3" type="revolute">
    <origin rpy="3.14159265359 0 1.57079632679" xyz="0.08 0 0"/>
    <parent link="femur_l3"/>
    <child link="tibia_l3"/>
    <axis xyz="0 0 1"/>
    <limit effort="10000" lower="-1.5" upper="1.5" velocity="100"/>
  </joint>
  <link name="tibia_l3">
    <inertial> <!-- these inertia are calculated based on the visual meshes using Meshlab, and using a density of 1kg/m^3 (http://gazebosim.org/tutorials?tut=inertia) -->
      <mass value="0.05564726"/> <!-- volume = 0.016106e-3, density = 2,710kg + 0.013kg for the servo (a little bit random) -->
      <origin xyz="-0.0025176 0.0017559 -0.0028322"/>
      <!--inertia ixx="0.000317e-5" ixy="-0.000054e-5" ixz="-0.000061e-5" iyy="0.001368e-5" iyz="-0.000011e-5" izz="0.001244e-5"/-->
      <!--inertia ixx="0.00019682106" ixy="-0.00003352787" ixz="-0.00003787408" iyy="0.0008493729" iyz="-0.00000682975" izz="0.00077238296"/--> <!-- divided by the volume, just need to be multiplied by the mass -->
      <inertia ixx="0.00001095255" ixy="-0.00000186573" ixz="-0.00000210758" iyy="0.00004726527" iyz="-3.80056874e-7" izz="0.00004298099"/> <!-- divided by the volume, just need to be multiplied by the mass -->
    </inertial>
    <visual>
      <origin rpy="0 0 0.06" xyz="0 0 0"/>
      <geometry>
        <mesh filename="meshes/tibia_l.STL"/>
      </geometry>
      <material name="">
        <color rgba="0.7 0 0.7 1"/>
      </material>
    </visual>
    <collision>
      <origin rpy="0 0 0.06" xyz="0 0 0"/>
      <geometry name="tibia_l3_collision">
        <mesh filename="meshes/tibia_l.STL" scale="1. 1. 1."/>
      </geometry>
    </collision>
  </link>
  <joint name="tibia_foot_joint_l3" type="fixed">
    <origin rpy="0 0 0" xyz="0.117 0 0"/>
    <parent link="tibia_l3"/>
    <child link="tibia_foot_l3"/>
  </joint>
  <link name="tibia_foot_l3">
    <inertial>
      <origin rpy="0 0 0" xyz="0 0 0"/>
      <mass value="0"/>
      <inertia ixx="0.0" ixy="0.0" ixz="0.0" iyy="0.0" iyz="0.0" izz="0.0"/>
    </inertial>
  </link> <!-- in pybullet, the inertia need to be specified even for dummy links, otherwise it will put an identity inertia and a mass of 1 by default -->
</robot>
